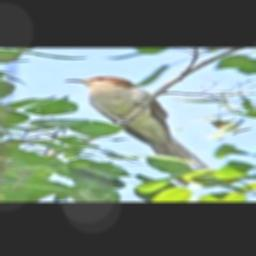Cuckoo: (63, 76, 211, 185)
